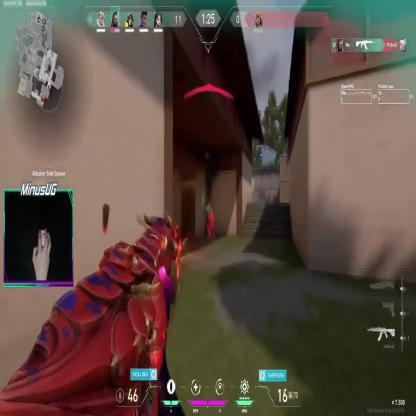enemy: (207, 206, 215, 239)
enemy_head: (209, 208, 213, 216)
